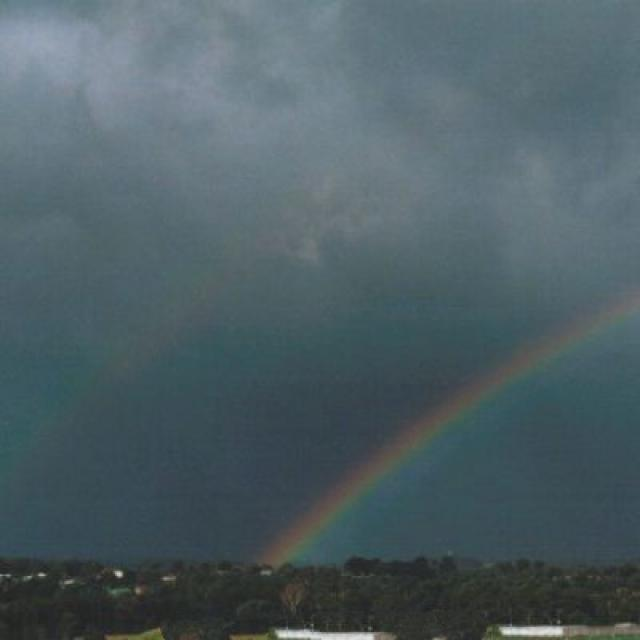St: (5, 1, 640, 458)
